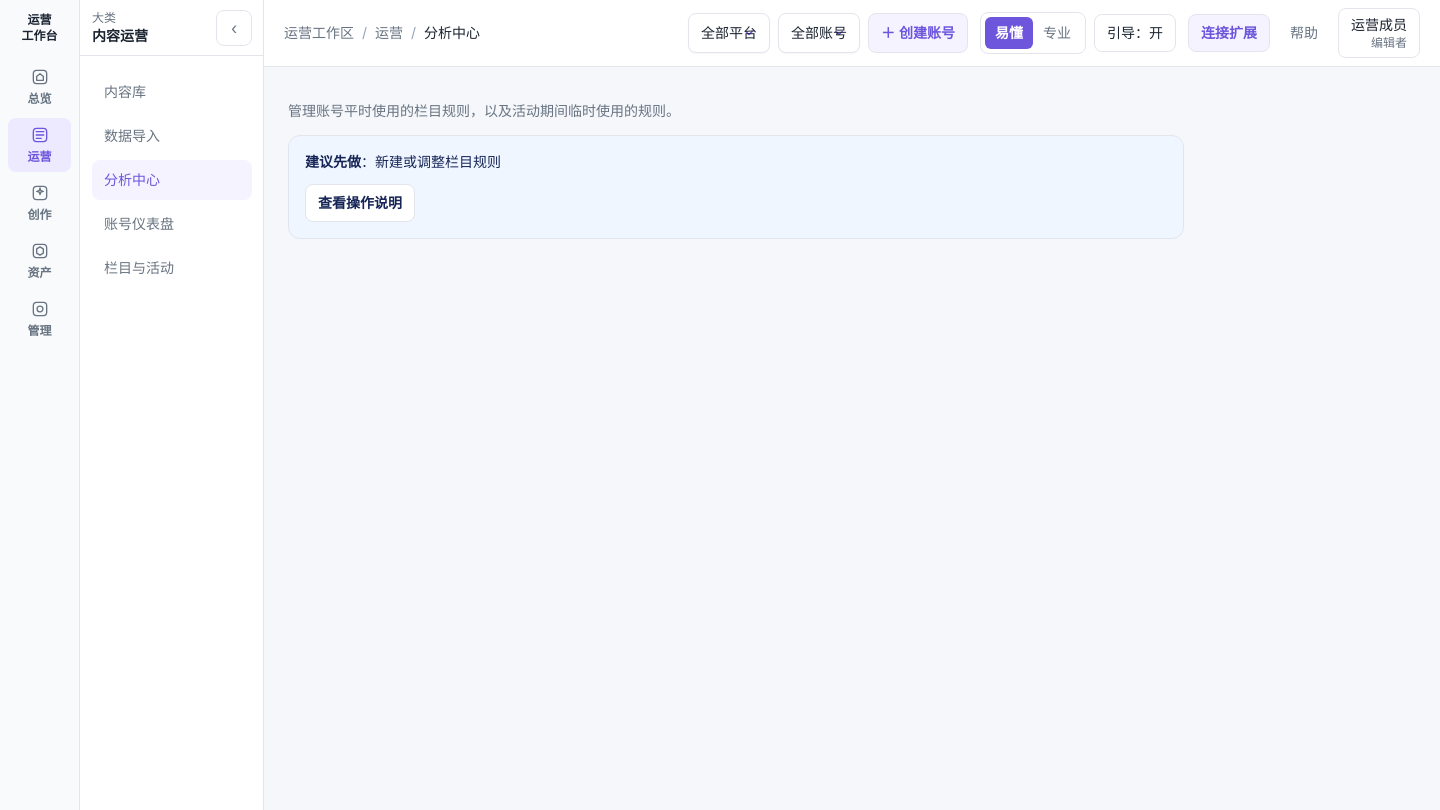
Test: explains the visible column rules instead of leaving an empty guide column
This screenshot has width=1440, height=810.
Click the button "查看操作说明": (360,203) x1=305 y1=184 x2=415 y2=222
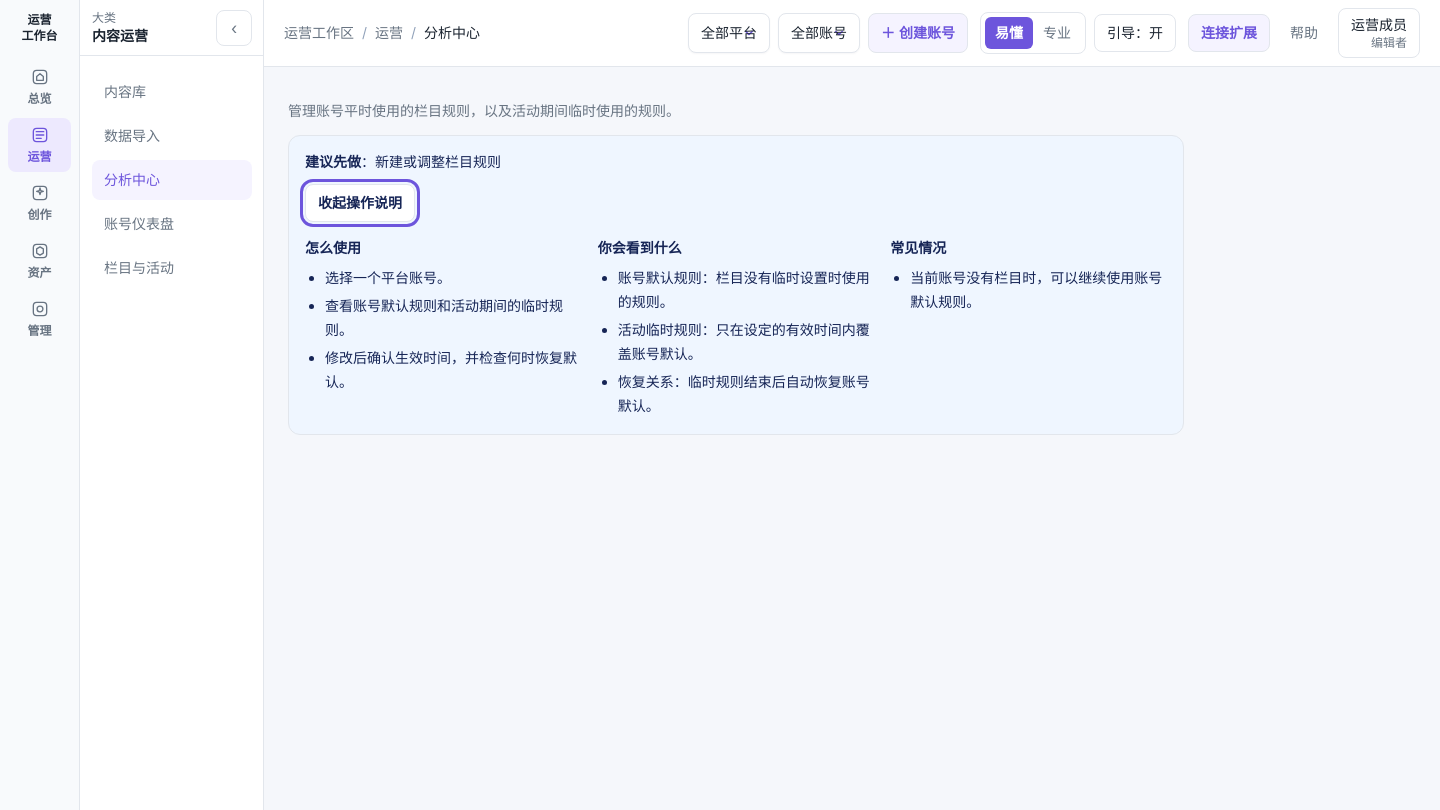
Check: the list item "账号默认规则：栏目没有临时设置时使用的规则。" is shown, box x1=618 y1=266 x2=874 y2=314
Check: the list item "活动临时规则：只在设定的有效时间内覆盖账号默认。" is shown, box x1=618 y1=318 x2=874 y2=366
Check: the list item "恢复关系：临时规则结束后自动恢复账号默认。" is shown, box x1=618 y1=370 x2=874 y2=418
